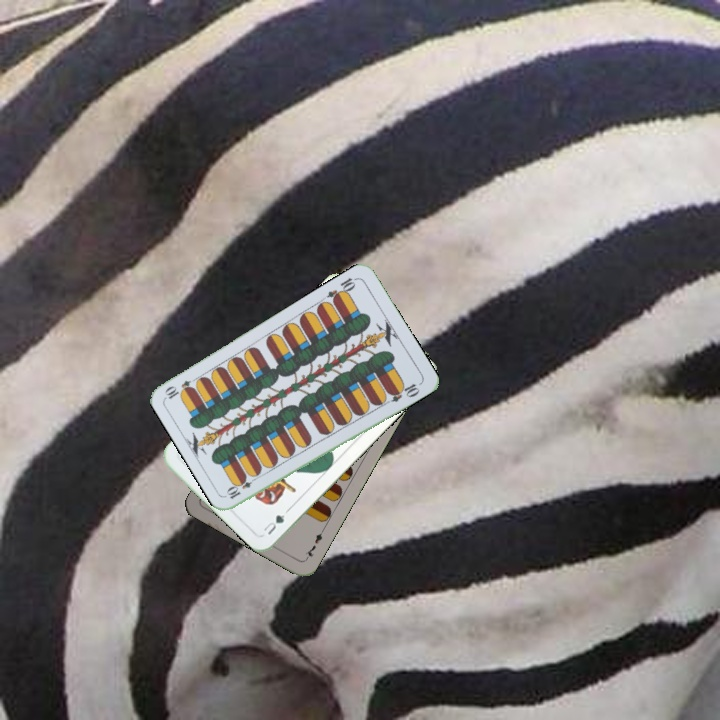E10: (323, 274, 360, 305), (223, 472, 260, 502)
E7: (301, 525, 327, 563)
GU: (259, 505, 292, 538)
